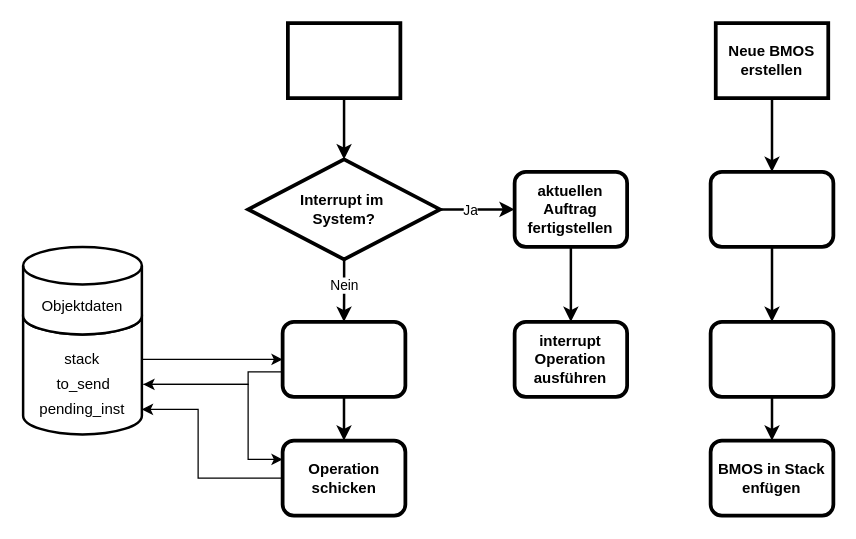
Image size: 856x539. Some labels were removed from this diagram. The centre of each missing label's shape, as x and y in pixels:
"Aktuelle BMOS" goes at (x=343, y=60).
"alle möglichen Operationen ablegen" goes at (x=343, y=358).
"BMOS-Vorlage mit Werten füllen" goes at (x=771, y=358).
"Start- und Endposition erfassen" goes at (x=771, y=208).
